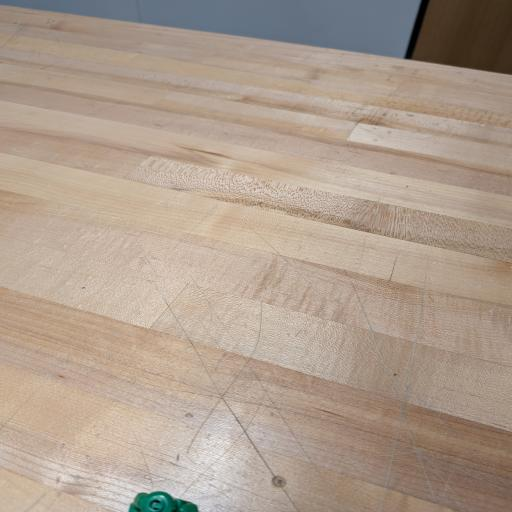Minifig: (129, 491, 198, 512)
